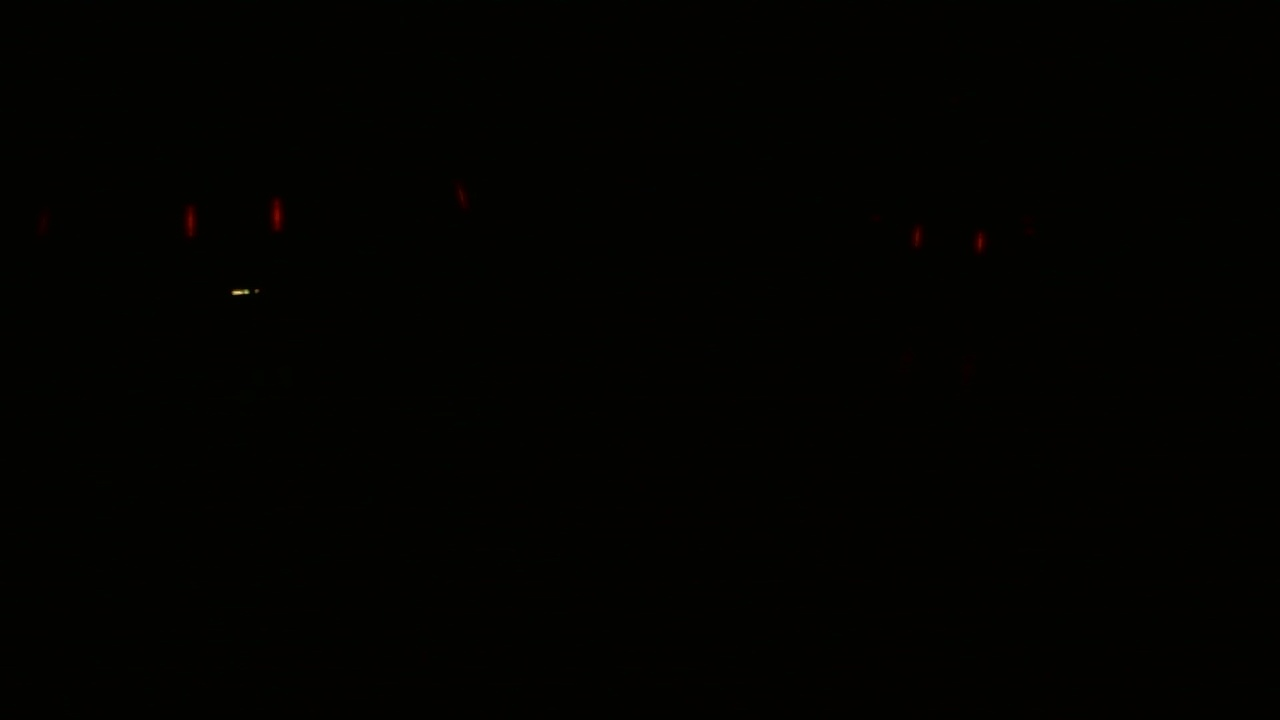pair1: (184, 197, 285, 238), (911, 222, 987, 253)
